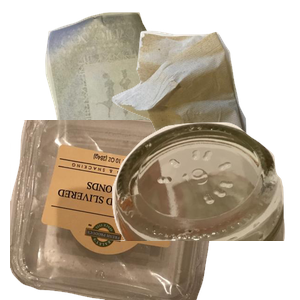glass: (89, 120, 300, 300)
paper: (43, 10, 221, 185)
plastic: (10, 120, 227, 300)
trash: (109, 28, 300, 208)
